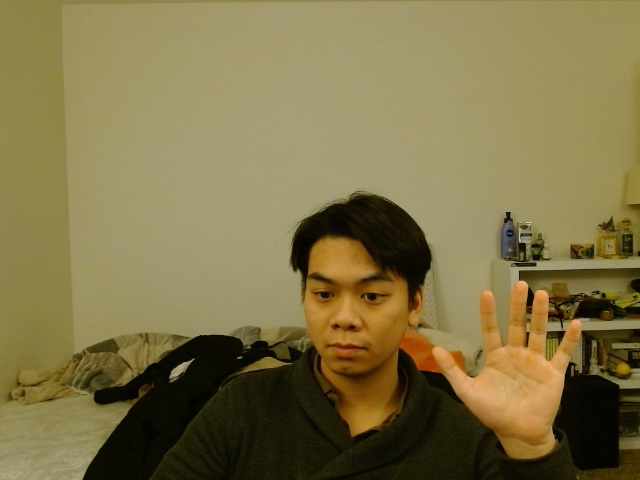Hello: (430, 277, 586, 442)
